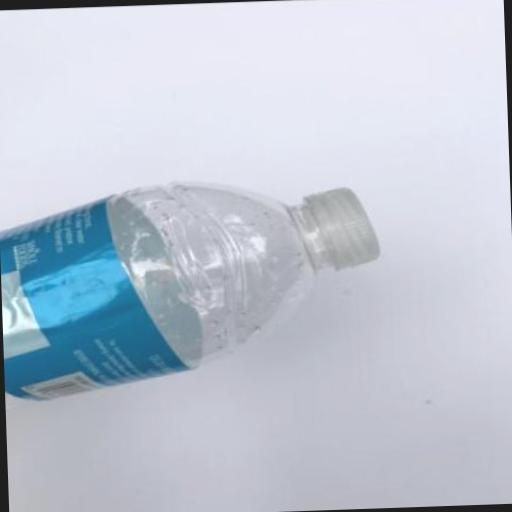plastic: (0, 175, 385, 400), (0, 188, 201, 399), (303, 183, 382, 266)
